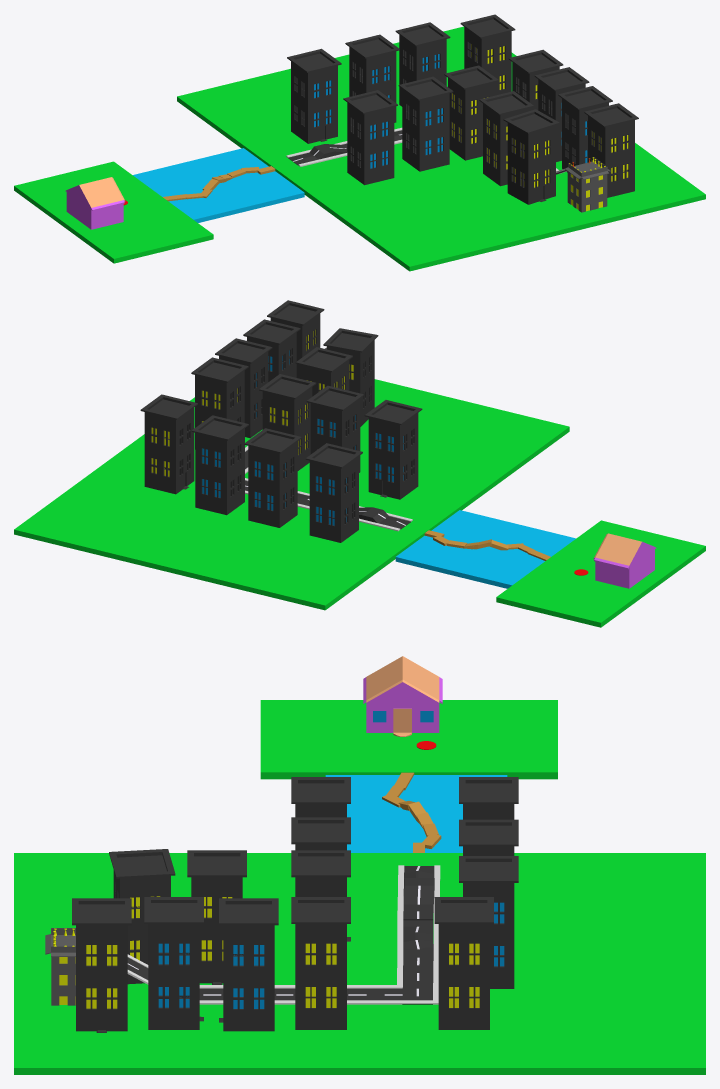
File: 1levelfbx.fbx
3 renders of one model, top to bottom at view 1: azimuth 30°, elevation 25°; view 2: azimuth 150°, elevation 25°; view 3: azimuth 270°, elevation 25°, orthographic. The views are drawn at different scales.
Visible parts, largest first — view 1: Plane, Plane.002, Plane.001, Cube.035, Cube.027, Cube.025, Cube.026, Cube.032, Cube.010, Cube.031, Cube.028, Cube.029 (+7 smaller); view 2: Plane, Plane.002, Plane.001, Cube.025, Cube.031, Cube.028, Cube.029, Cube.026, Cube.010, Cube.027, Cube.011, Cube.045 (+6 smaller); view 3: Plane, Plane.002, Plane.001, Cube.030, Cube.032, Cube.033, Cube.011, Cube.031, Cube.045, Cube.034, Cube.029, Cube.035 (+10 smaller).
Boxes of the visible parts, box(x1,y1,x2,y2) form: Plane: box(177, 26, 705, 271); Plane.002: box(14, 161, 213, 263); Plane.001: box(133, 148, 304, 222); Cube.035: box(503, 109, 559, 204); Cube.027: box(398, 76, 453, 171); Cube.025: box(343, 90, 397, 185); Cube.026: box(287, 48, 341, 143); Cube.032: box(584, 103, 638, 197); Cube.010: box(444, 65, 498, 160); Cube.031: box(460, 14, 515, 95); Cube.028: box(345, 34, 399, 122); Cube.029: box(395, 22, 450, 106); Plane: box(14, 379, 569, 610); Plane.002: box(496, 520, 705, 627); Plane.001: box(395, 510, 575, 588); Cube.025: box(364, 400, 422, 499); Cube.031: box(140, 394, 197, 494); Cube.028: box(244, 428, 301, 527); Cube.029: box(191, 415, 248, 515); Cube.026: box(305, 443, 362, 542); Cube.010: box(259, 374, 316, 470); Cube.027: box(306, 385, 363, 472); Cube.011: box(191, 357, 248, 449); Cube.045: box(593, 533, 656, 588); Plane: box(14, 853, 705, 1074); Plane.002: box(260, 700, 557, 779); Plane.001: box(325, 775, 507, 852); Cube.030: box(219, 898, 278, 1031); Cube.032: box(72, 898, 131, 1032); Cube.033: box(144, 897, 203, 1029); Cube.011: box(291, 897, 350, 1029); Cube.031: box(434, 897, 493, 1029); Cube.045: box(363, 656, 442, 736); Cube.034: box(187, 850, 246, 984); Cube.029: box(459, 856, 518, 988); Cube.035: box(109, 849, 175, 984).
Bounding box in the file's own units: 31227 × 4822 × 24721.
